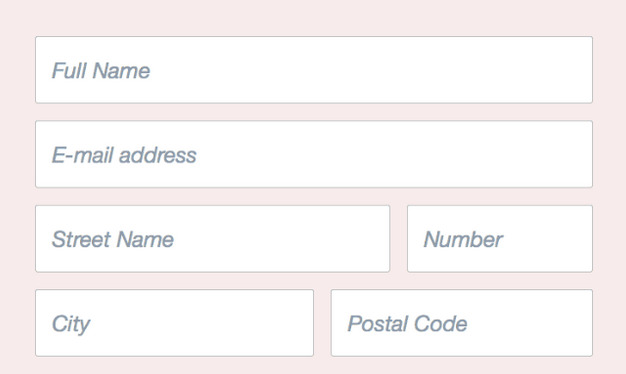_form_: (21, 1, 600, 366)
field: (34, 120, 593, 189), (34, 36, 594, 104), (34, 205, 391, 274), (34, 289, 315, 358), (330, 289, 594, 357), (406, 205, 594, 273)
